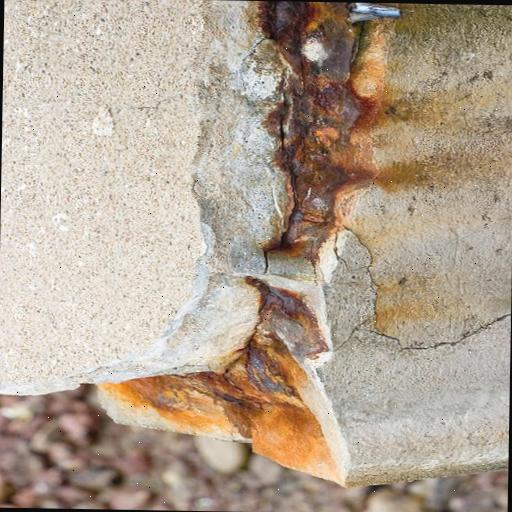spalling: (1, 1, 394, 478)
